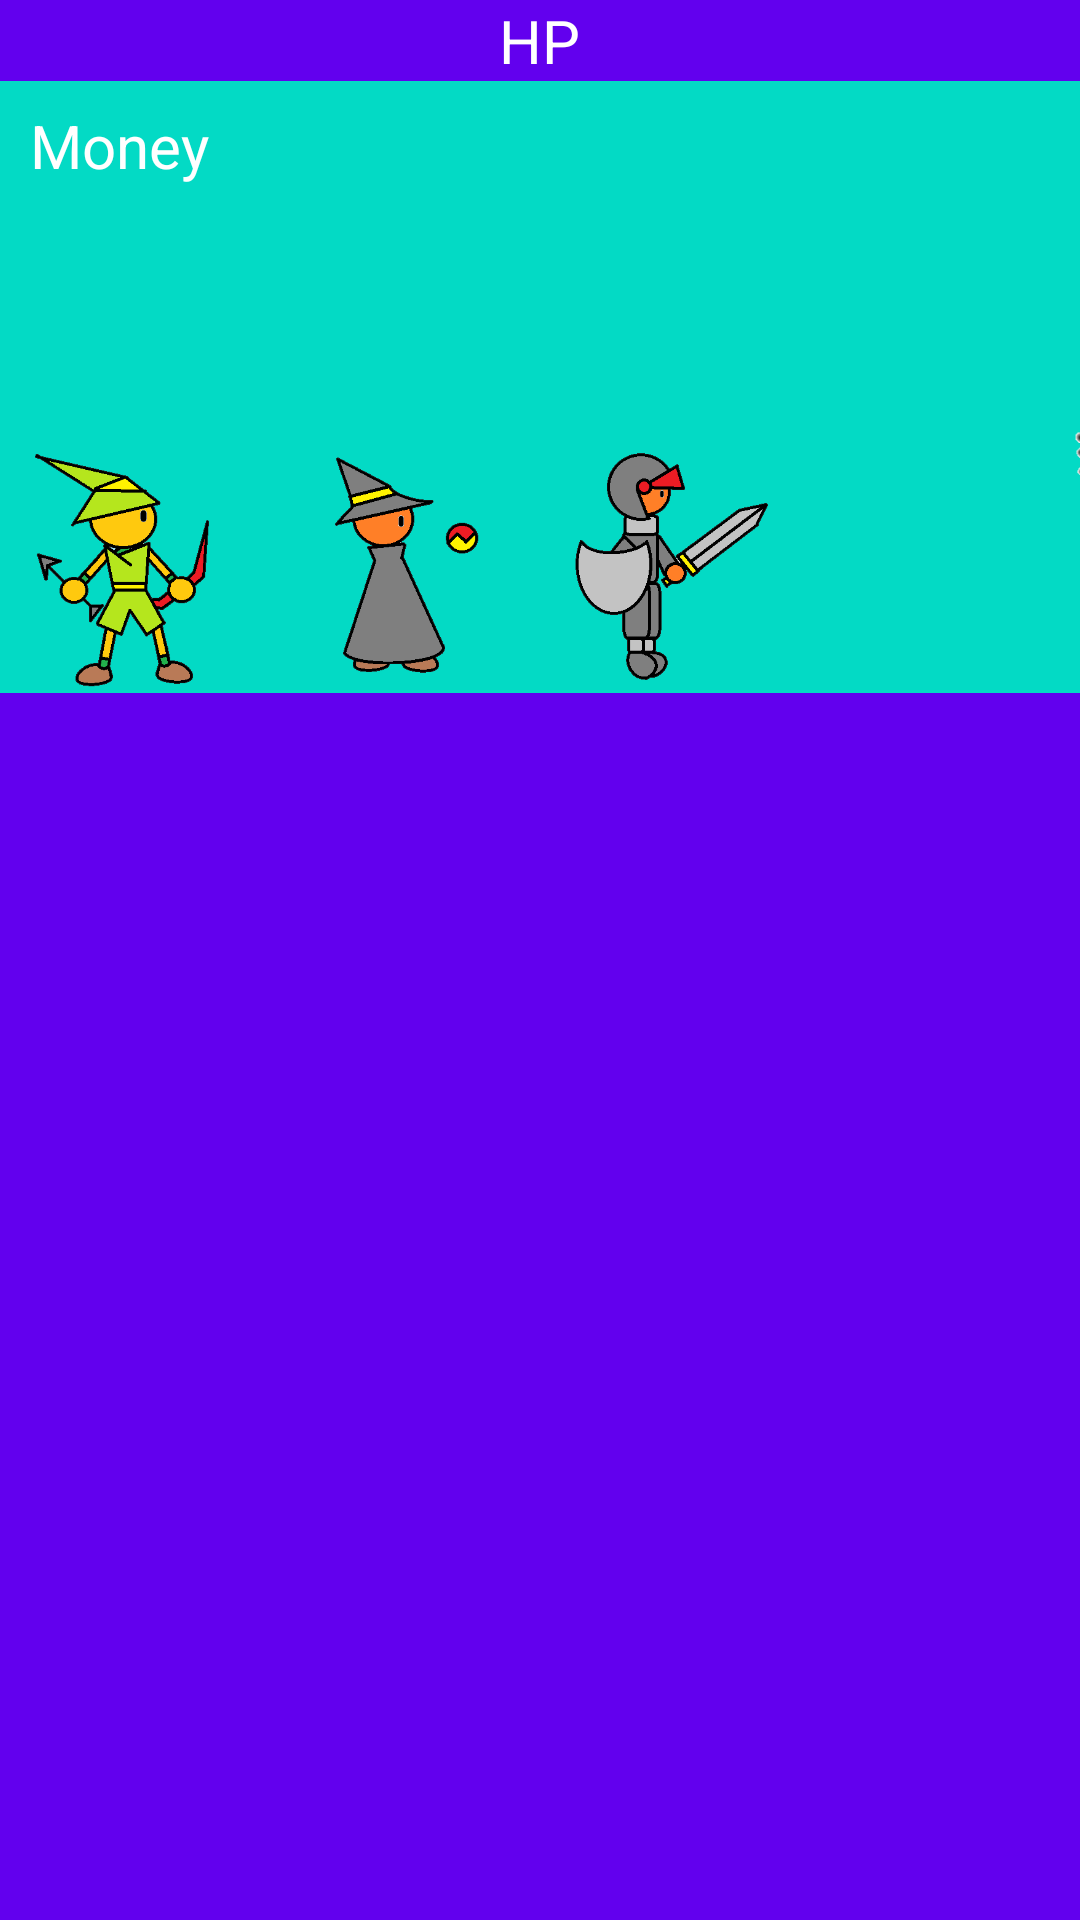

Screen size 1080 × 1920. Icon name, then its box in pixels as {"left": x1, "top": y1, "right": x2, "bottom": y2}:
archer: {"left": 35, "top": 454, "right": 209, "bottom": 687}
caster: {"left": 335, "top": 457, "right": 479, "bottom": 673}
warrior: {"left": 575, "top": 453, "right": 768, "bottom": 680}
